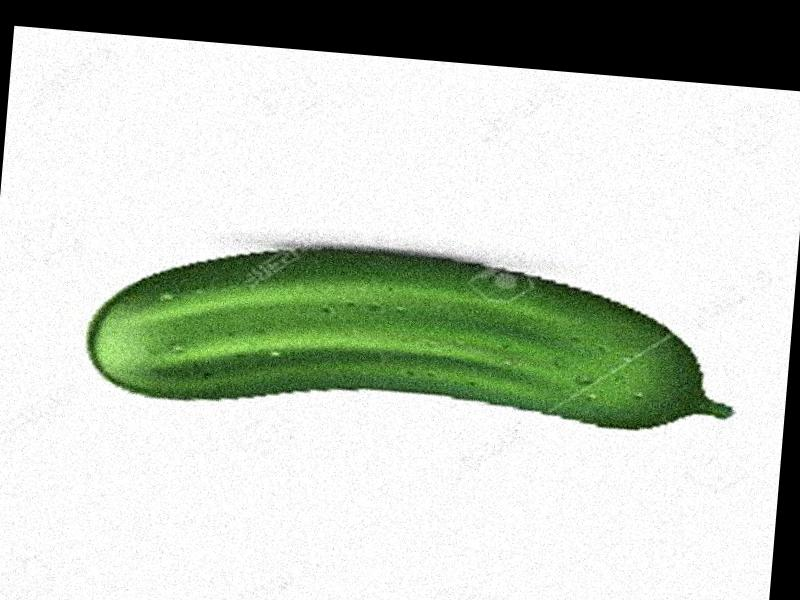Cucumber: (82, 225, 742, 445)
